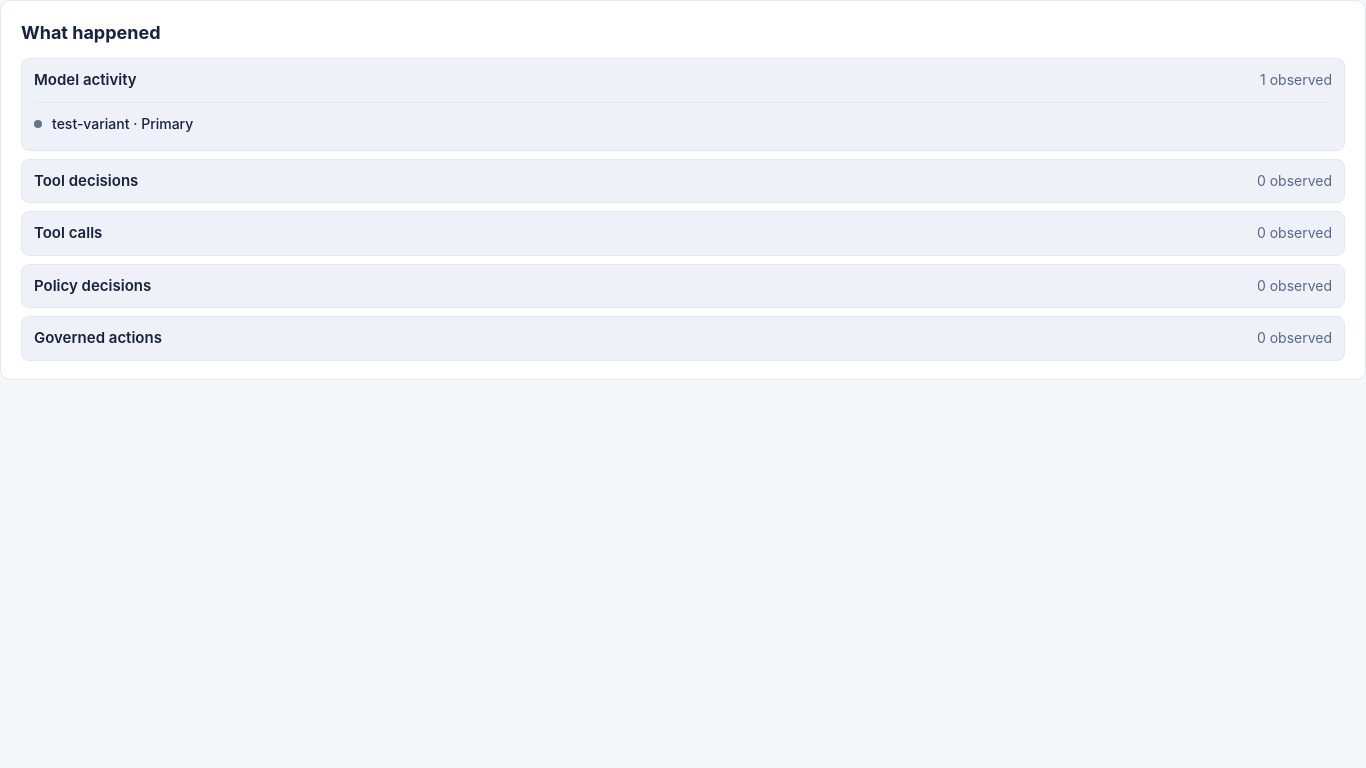
Test case: AssignmentActivitySummary › renders expandable model activity records
Note: Expand and check for fields
Step 1. Click the heading "test-variant · Primary" → (123, 123), box [52,114,193,132]
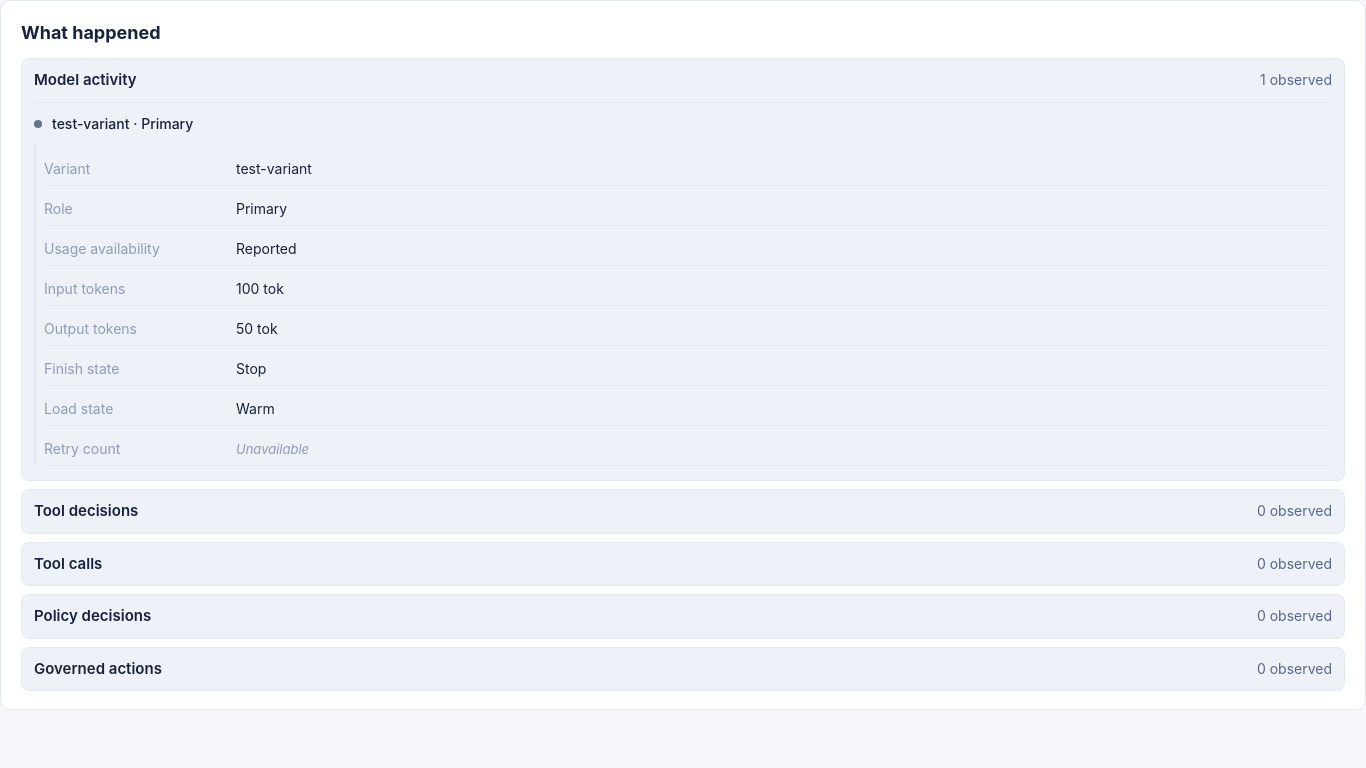
Check: the text "Variant" is shown, box [44,160,90,176]
Check: the text "Role" is shown, box [44,200,73,216]
Check: the text "Input tokens" is shown, box [44,280,125,296]
